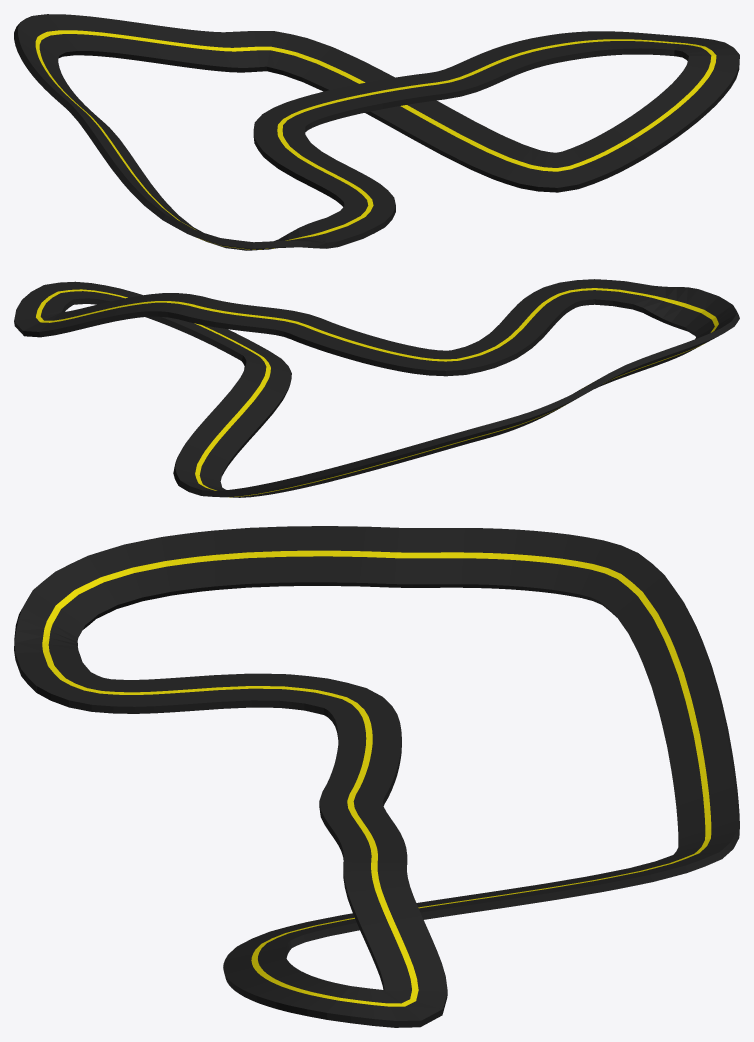
Rendered from track1.dae.
3 renders of one model, top to bottom at view 1: azimuth 30°, elevation 25°; view 2: azimuth 150°, elevation 25°; view 3: azimuth 270°, elevation 25°, orthographic. The views are drawn at different scales.
Visible parts, largest first — view 1: Cube; view 2: Cube; view 3: Cube.
Boxes of the visible parts, box(x1,y1,x2,y2) form: Cube: box(14, 14, 739, 250); Cube: box(14, 279, 739, 497); Cube: box(14, 526, 739, 1027).
Bounding box in the file's own units: 33.67 × 25.78 × 7.
